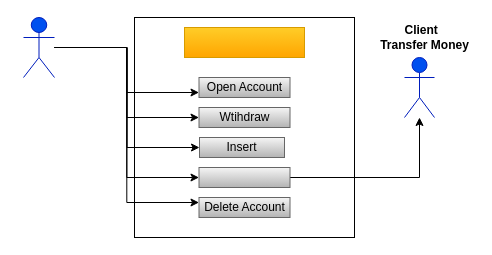
This 492x255 diagram has some shape labels left out. The box of each missing label's shape, as (x1, y1, x2, y2) in pixels:
Bank: (184, 26, 304, 58)
Client 1: (22, 16, 54, 78)
Transfer: (198, 166, 290, 188)
